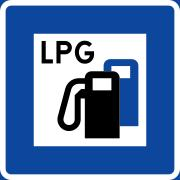Petrol Pump- Gas Station: (27, 20, 158, 155)
